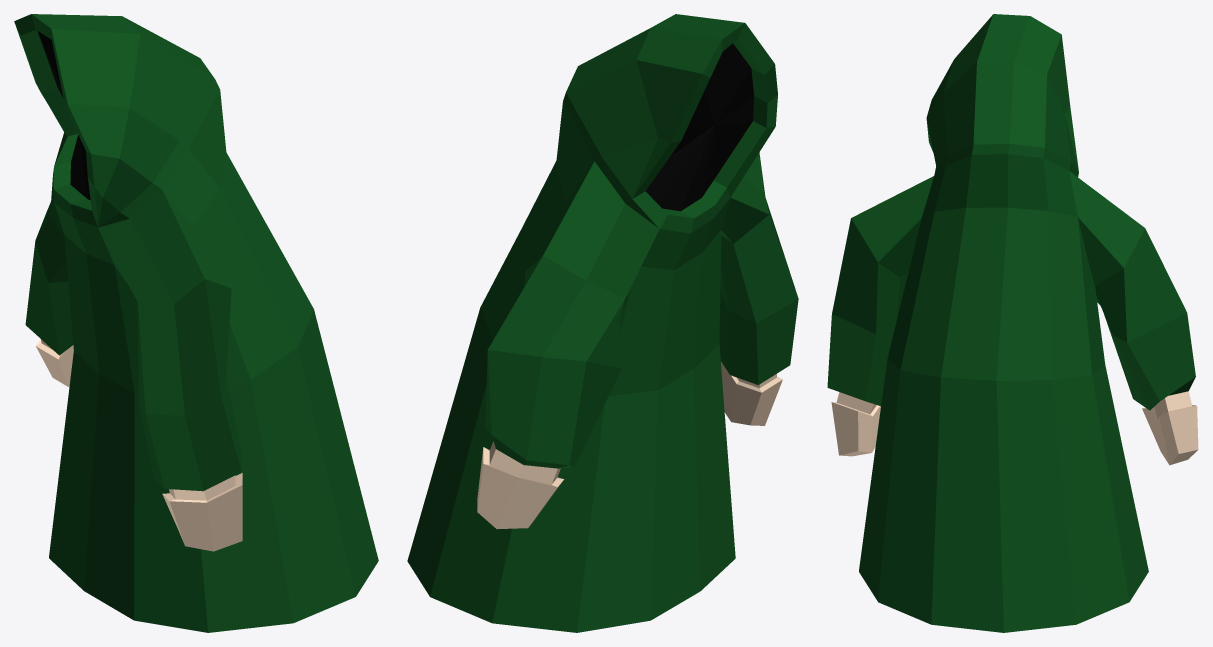
The model's file is cultist.glb.
3 views of the same model, side by side, from view 1: azimuth 30°, elevation 25°; view 2: azimuth 150°, elevation 25°; view 3: azimuth 270°, elevation 25° (orthographic). The views are drawn at different scales.
Parts seen in each view (by area): view 1: Cylinder; view 2: Cylinder; view 3: Cylinder.
Boxes of the visible parts, <box> form: Cylinder: <box>14,14,378,632</box>; Cylinder: <box>407,14,798,632</box>; Cylinder: <box>827,14,1198,632</box>.
Bounding box in the file's own units: 2.15 × 3.73 × 2.56.
